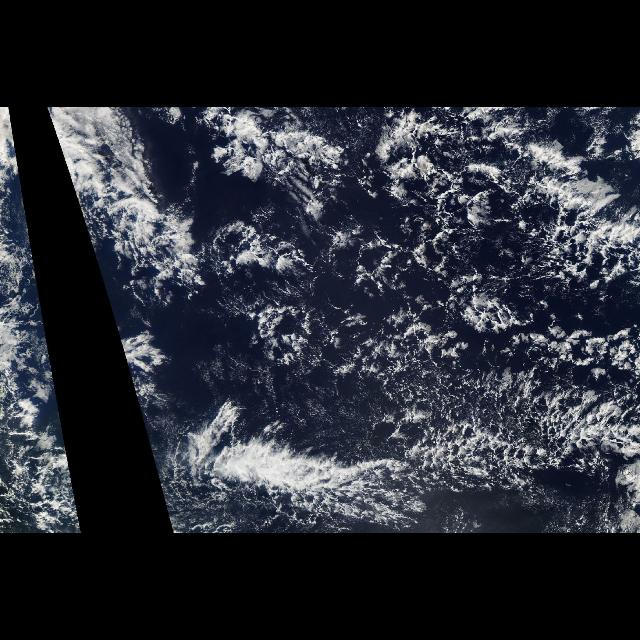Flower: (200, 116, 636, 418)
